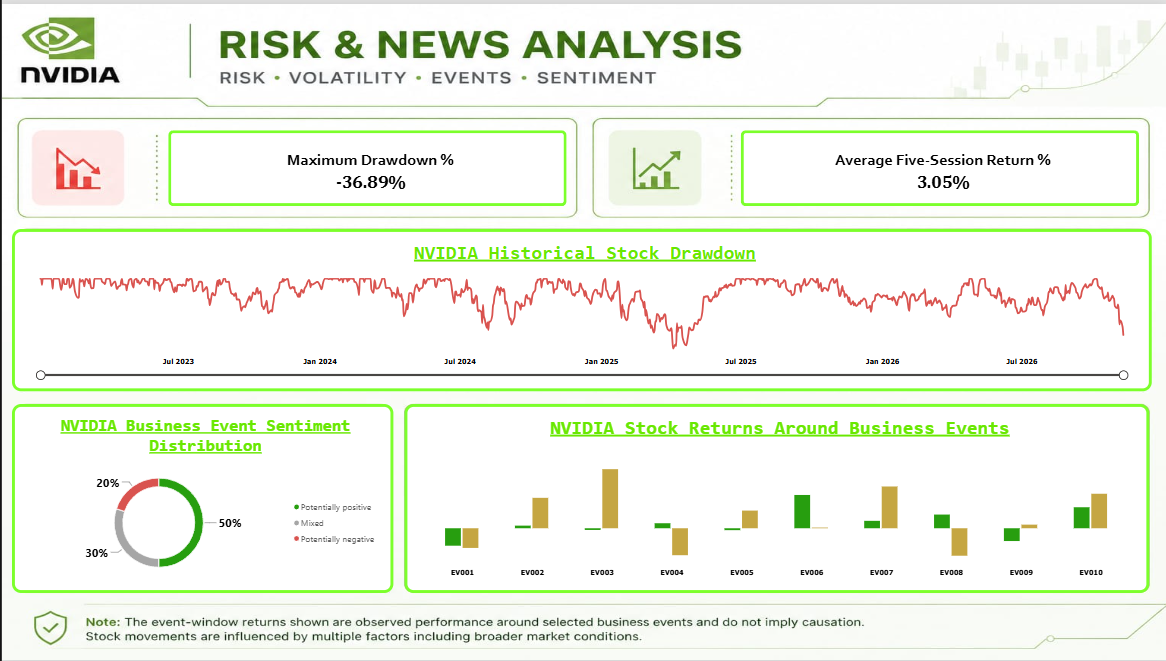

This screenshot's page, from the dashboard's own definition file:
{"tool":"powerbi","page":{"name":"Risk & News Analysis","canvas":[1920,1080],"ordinal":3},"visuals":[{"type":"cardVisual","fields":{"Data":["_Measures.Maximum Drawdown %"]},"box":[273.8,207.9,656.6,125.6],"z":0},{"type":"cardVisual","fields":{"Data":["_Measures.Average Five-Session Return %"]},"box":[1216.5,207.9,656.6,125.6],"z":1000},{"type":"lineChart","title":"NVIDIA Historical Stock Drawdown","fields":{"Category":["NVDA_Stock_Prices_Cleaned.trade_date"],"Y":["_Measures.Drawdown %"]},"box":[16.5,370.5,1877.2,267.6],"z":2000},{"type":"donutChart","title":"NVIDIA Business Event Sentiment Distribution","fields":{"Category":["NVIDIA_Business_Events_Cleaned.Sentiment"],"Y":["CountNonNull(NVIDIA_Business_Events_Cleaned.Event_ID)"]},"box":[16.5,658.7,627.8,310.8],"z":3000},{"type":"clusteredColumnChart","title":"NVIDIA Stock Returns Around Business Events","fields":{"Category":["NVIDIA_Business_Events_Cleaned.Event_ID"],"Y":["_Measures.Average Event-Day Return %","_Measures.Average Five-Session Return %"]},"box":[662.8,658.7,1226.8,310.8],"z":4000}]}

Visuals, with their boxes in screenshot pixels (x1, y1, x2, y2), scaled from the page's 1920x1080 canvas onto the 1166x661 screenshot:
cardVisual - _Measures.Maximum Drawdown %: 166:127:565:204
cardVisual - _Measures.Average Five-Session Return %: 739:127:1138:204
"NVIDIA Historical Stock Drawdown" lineChart: 10:227:1150:391
"NVIDIA Business Event Sentiment Distribution" donutChart: 10:403:391:593
"NVIDIA Stock Returns Around Business Events" clusteredColumnChart: 403:403:1148:593
